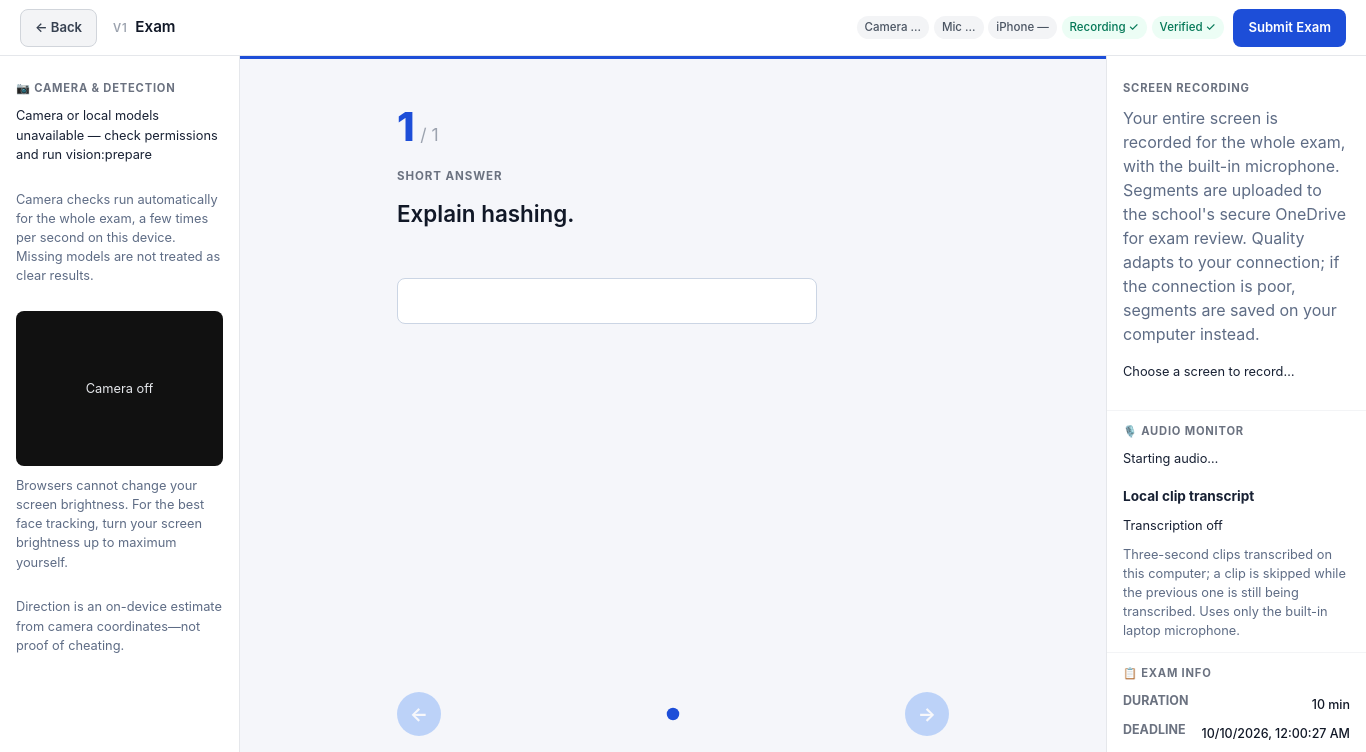
shows only "Submitted" in the top bar after a successful submit
This screenshot has width=1366, height=752.
Click the button "Submit Exam". click: (1290, 28)
box: [1233, 8, 1346, 46]
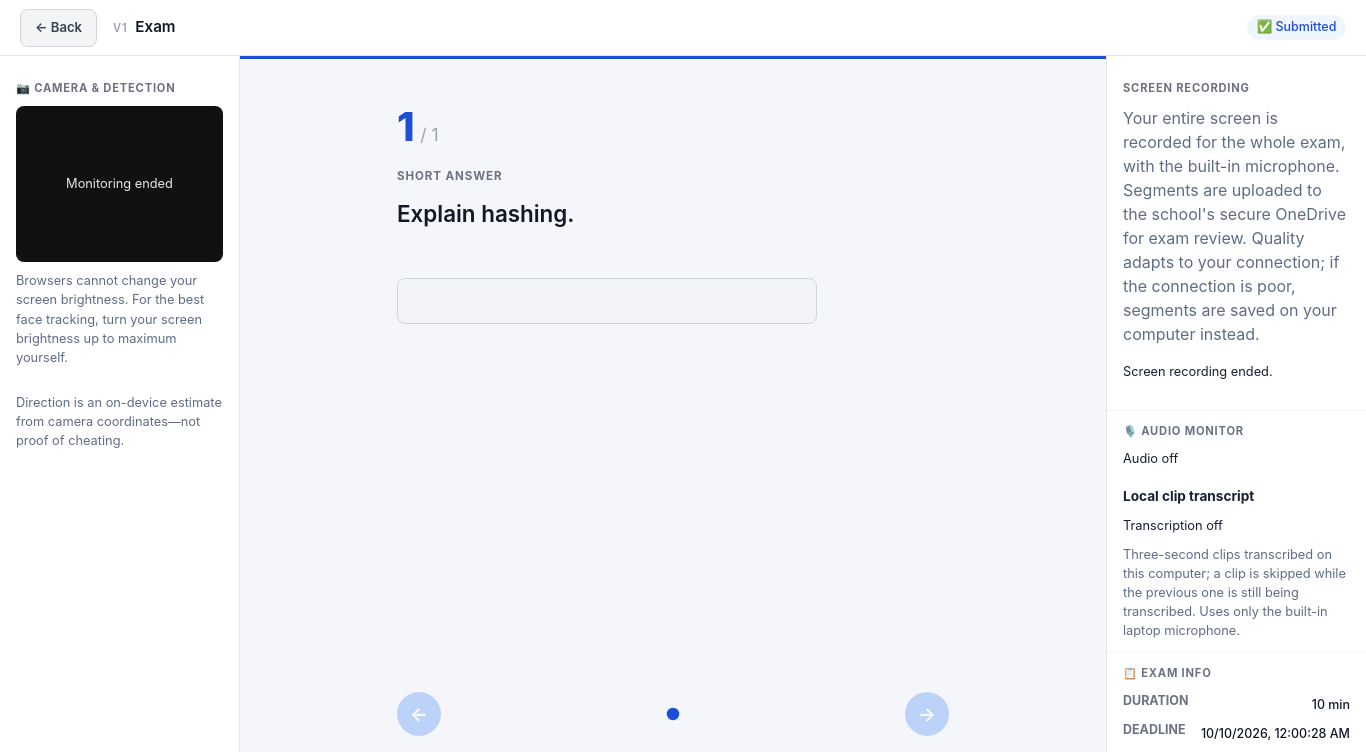
Result: the header with class "exam-topbar" shows "Submitted" at [1257, 19, 1336, 34]
